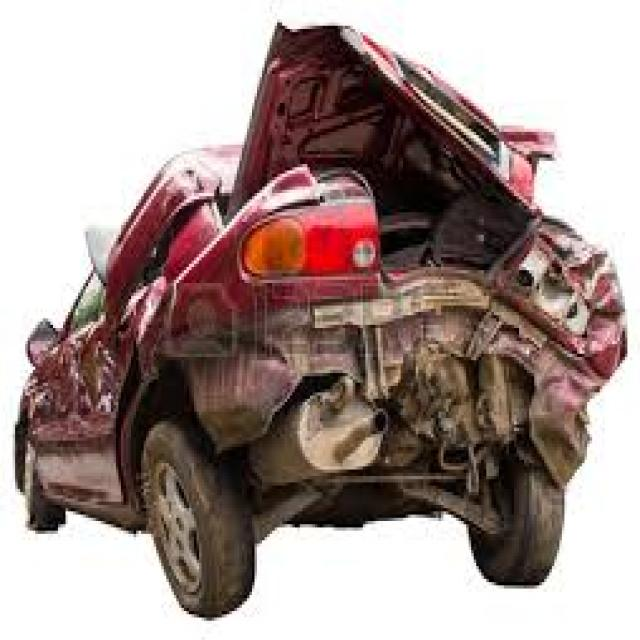moderate: (15, 240, 132, 512)
severe: (158, 5, 613, 603)
